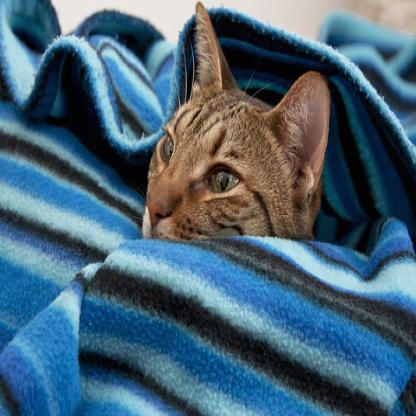cat: (142, 1, 331, 243)
